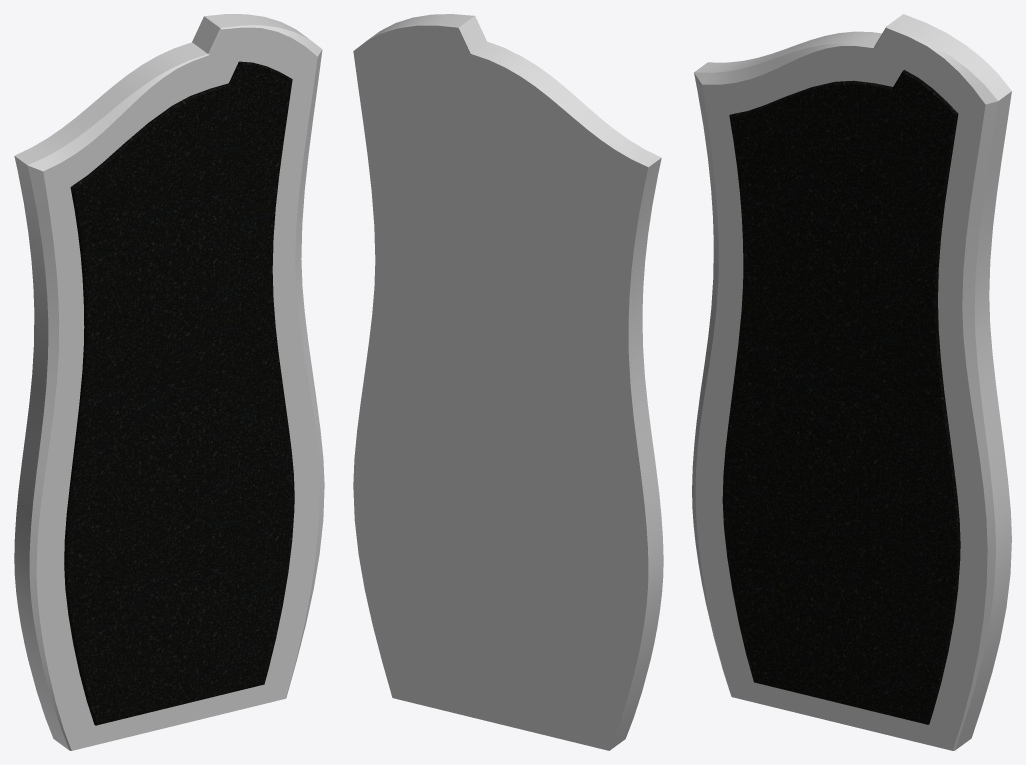
Rendered from cn3ef5231ddb_tkf.glb.
3 renders of one model, left to right at view 1: azimuth 30°, elevation 25°; view 2: azimuth 150°, elevation 25°; view 3: azimuth 330°, elevation 25°, orthographic. The views are drawn at different scales.
Visible parts, largest first — view 1: Pam-kombi-011_2_notexture, Pam-kombi-011; view 2: Pam-kombi-011; view 3: Pam-kombi-011_2_notexture, Pam-kombi-011.
Part boxes in pixels (x1,y1,x2,y2): Pam-kombi-011_2_notexture: (64,61,294,725); Pam-kombi-011: (14,14,324,750); Pam-kombi-011: (353,14,663,750); Pam-kombi-011_2_notexture: (722,70,960,724); Pam-kombi-011: (692,14,1011,750).
Bounding box in the file's own units: 0.45 × 1 × 0.05.
1 material, 1 textured.
